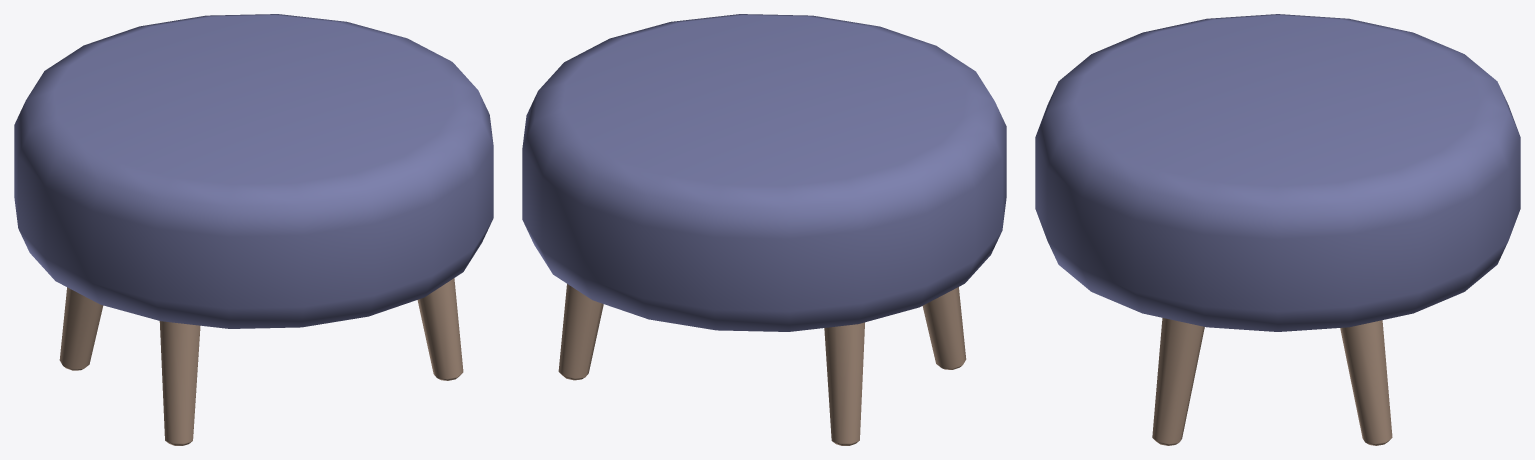
The model's file is Chair_2.glb.
3 renders of one model, left to right at view 1: azimuth 30°, elevation 25°; view 2: azimuth 150°, elevation 25°; view 3: azimuth 270°, elevation 25°, orthographic.
Parts seen in each view (by area): view 1: Chair_2; view 2: Chair_2; view 3: Chair_2.
Boxes of the visible parts, <box> form: Chair_2: <box>14,14,493,445</box>; Chair_2: <box>522,14,1006,445</box>; Chair_2: <box>1035,14,1520,445</box>.
Size of the model in its own units: 0.8678 by 0.5397 by 0.8678.
1 material, 1 textured.
